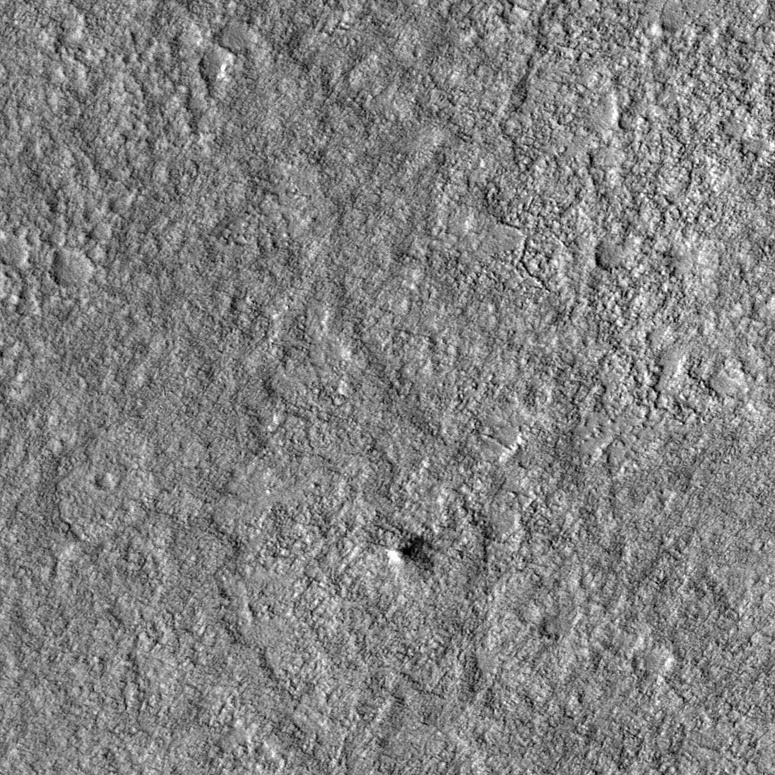dust_devil: (384, 535, 425, 569)
